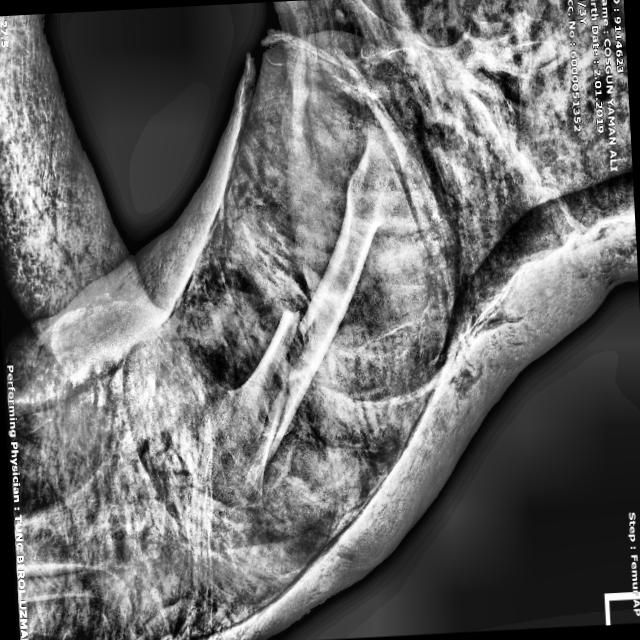Fracture: (256, 288, 323, 464)
